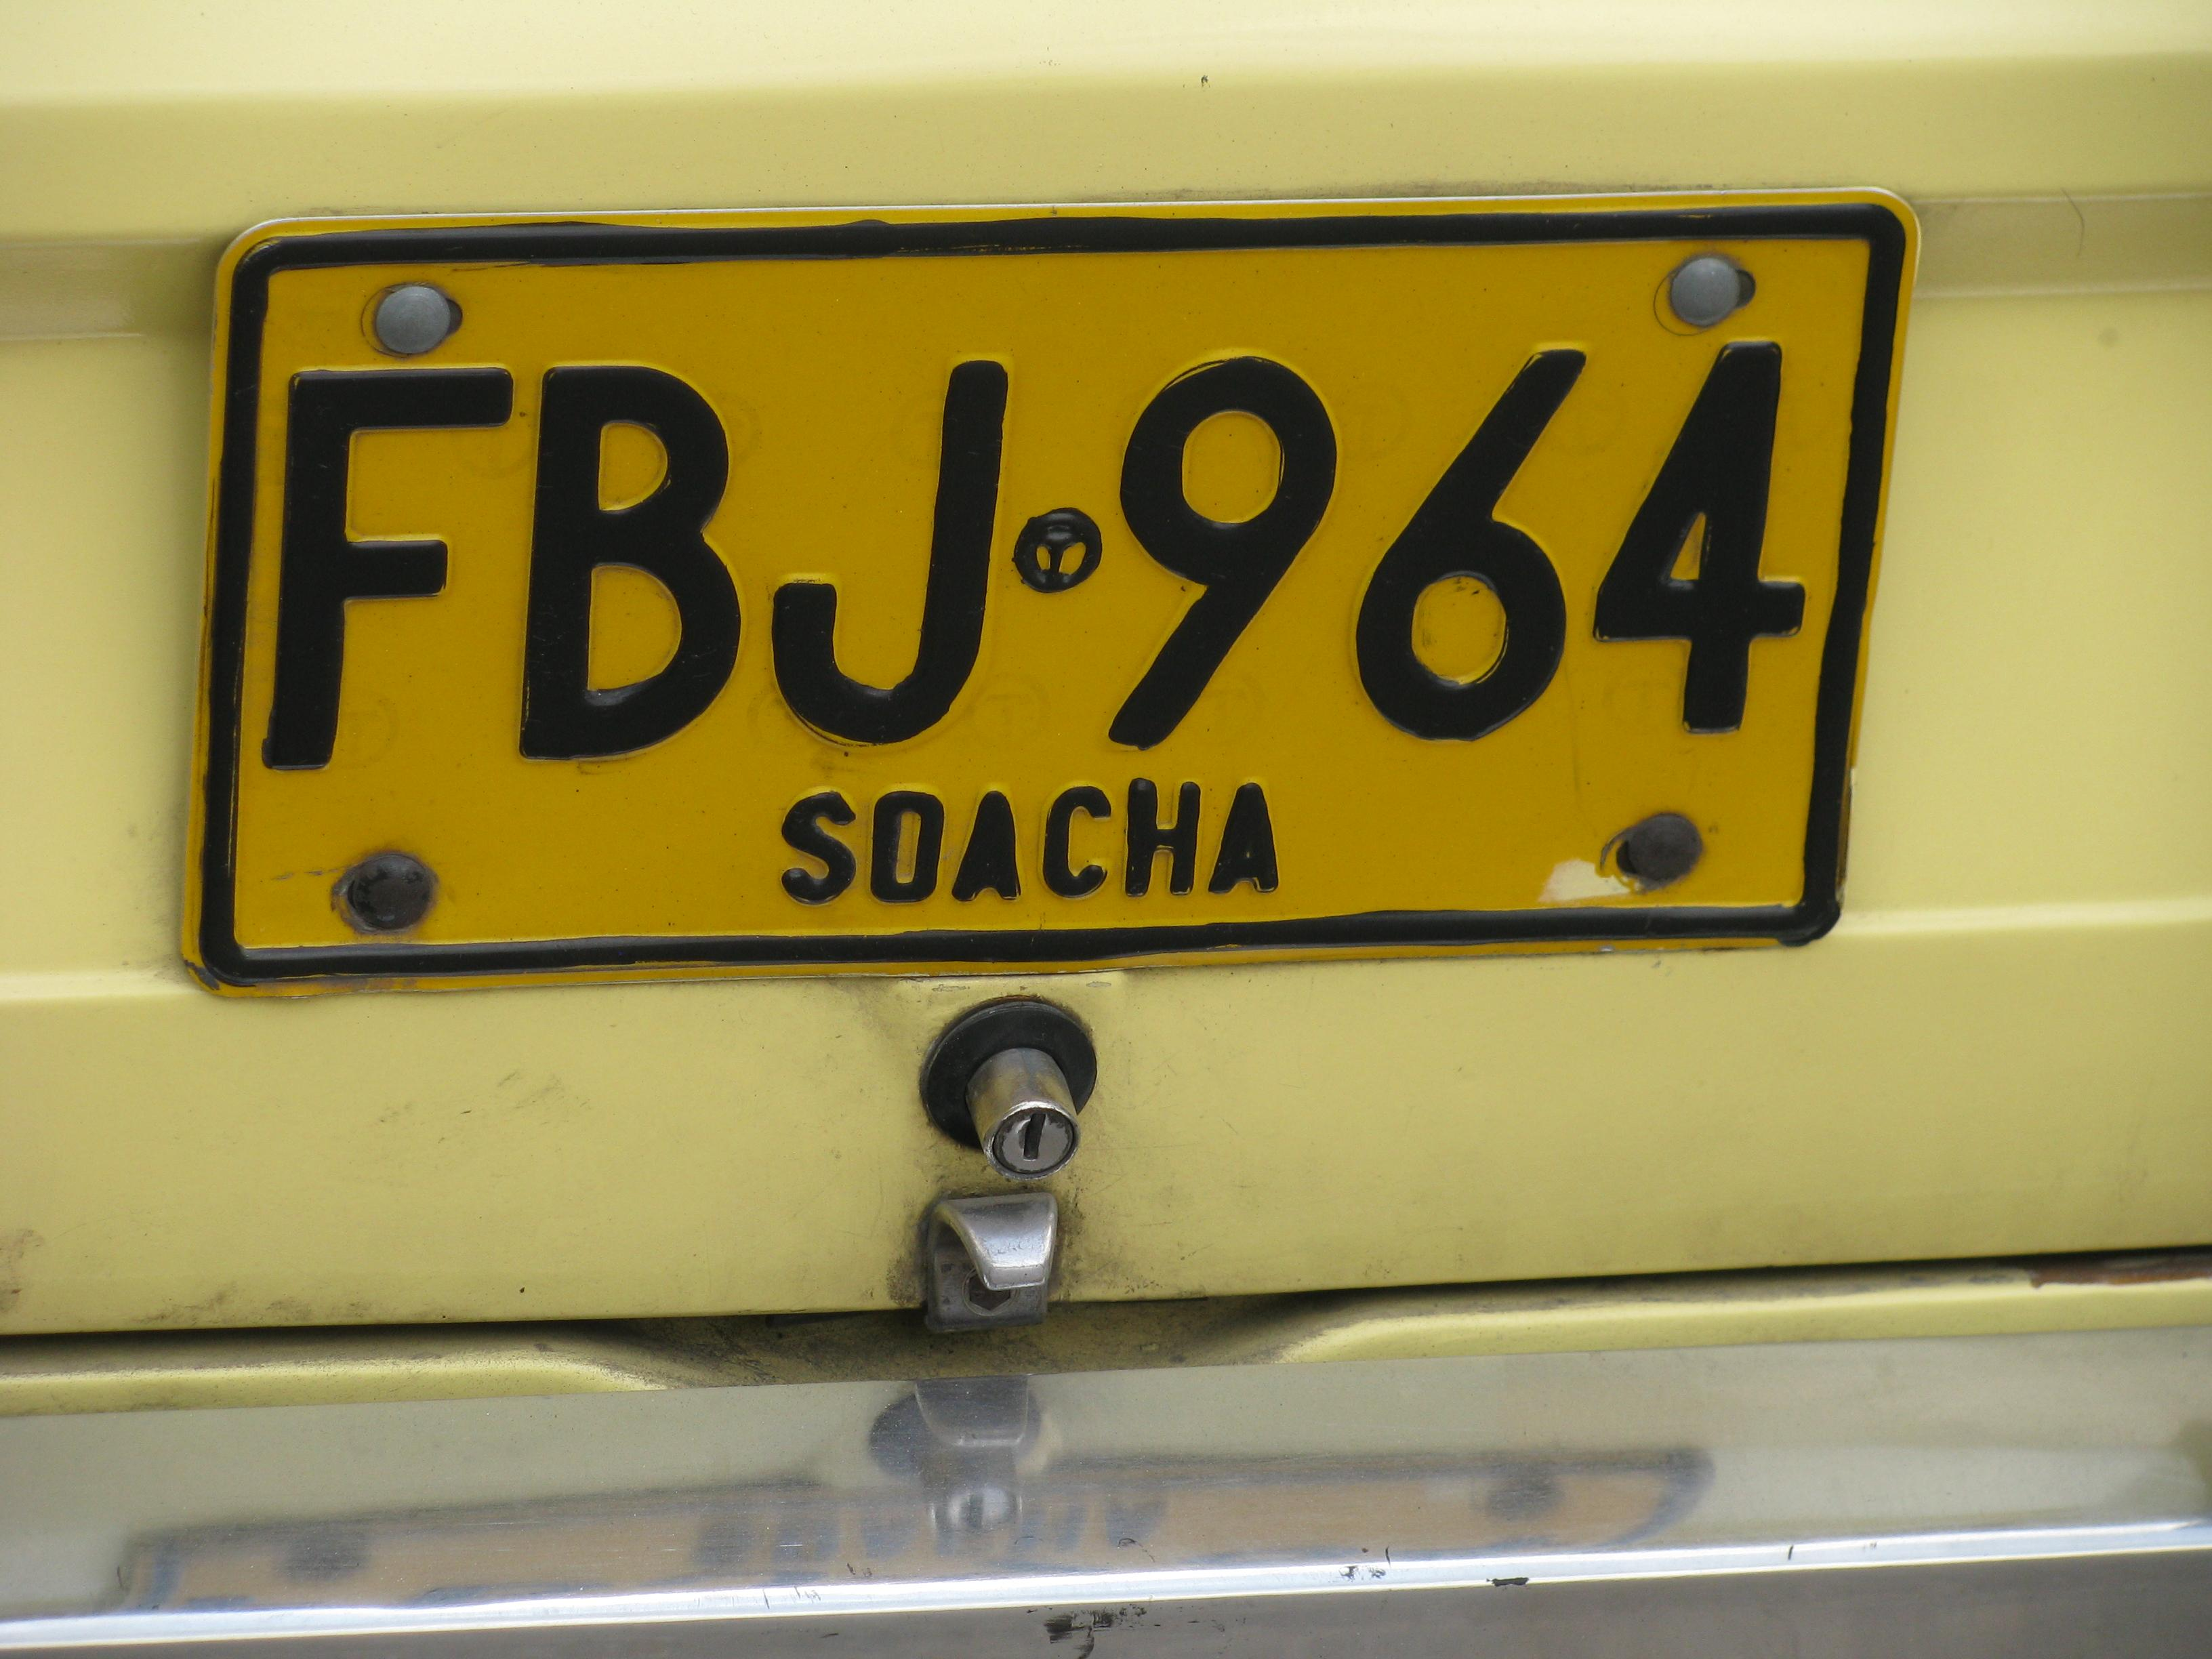placas: (160, 140, 1929, 1010)
